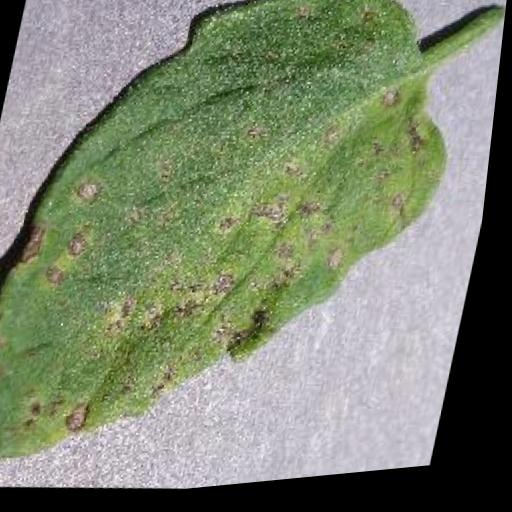Septoria: (0, 0, 490, 506)
